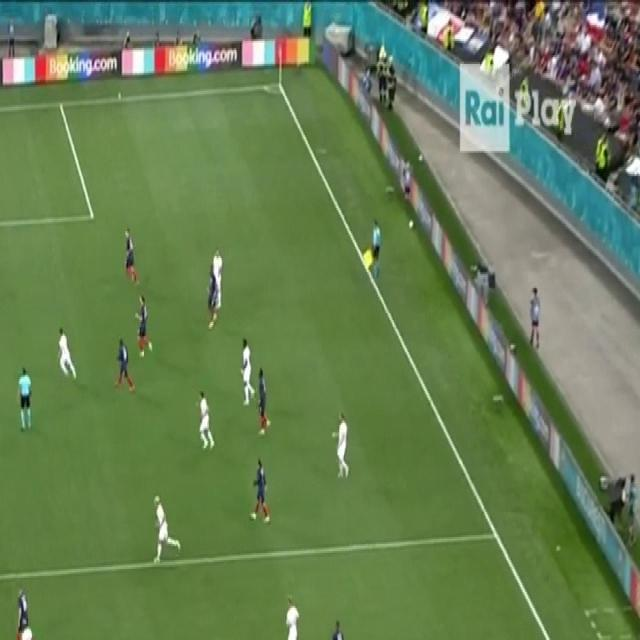ball: (417, 153, 425, 162), (409, 219, 414, 231)
player-white: (152, 492, 181, 566), (249, 456, 271, 526), (360, 218, 382, 283), (330, 412, 350, 481), (113, 336, 136, 394), (195, 391, 216, 453), (56, 326, 78, 383), (134, 294, 153, 360), (239, 336, 256, 408), (15, 366, 33, 433), (256, 367, 272, 438), (123, 226, 139, 288), (285, 593, 306, 640), (206, 264, 218, 332), (14, 586, 29, 640), (212, 247, 224, 312), (18, 618, 38, 640), (328, 618, 345, 640)
